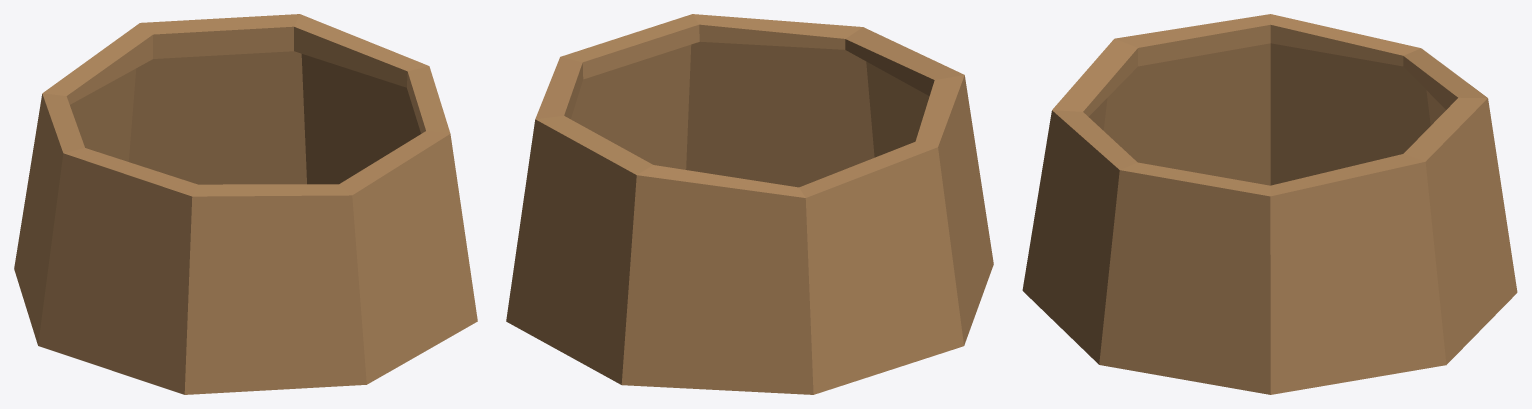
File: Ceppo.fbx
3 views of the same model, side by side, from view 1: azimuth 30°, elevation 25°; view 2: azimuth 150°, elevation 25°; view 3: azimuth 270°, elevation 25° (orthographic). The views are drawn at different scales.
Parts seen in each view (by area): view 1: Circle.031; view 2: Circle.031; view 3: Circle.031.
Part boxes in pixels (bbox=[...]): Circle.031: bbox=[14, 14, 477, 394]; Circle.031: bbox=[506, 14, 993, 394]; Circle.031: bbox=[1022, 14, 1517, 394].
Bounding box in the file's own units: 22.55 × 10.01 × 23.01.
